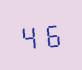four: (19, 21, 40, 50)
six: (41, 20, 62, 48)
